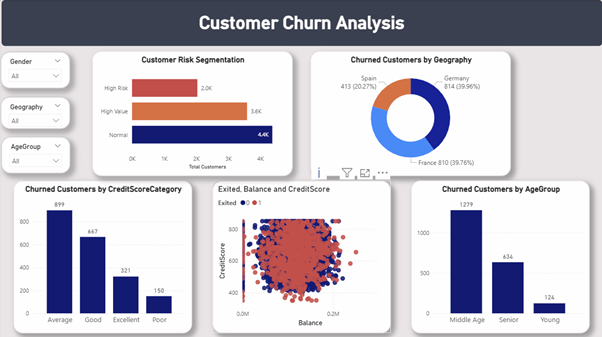

What the dashboard file says about the page in this screenshot:
{"tool":"powerbi","page":{"name":"Churn Analysis","canvas":[1280,720],"ordinal":1},"visuals":[{"type":"donutChart","fields":{"Category":["Churn_Modelling.Geography"],"Y":["Churn_Modelling.Churned Customers"]},"box":[658.7,109.8,426.8,266.2],"z":0},{"type":"clusteredColumnChart","fields":{"Category":["Churn_Modelling.AgeGroup"],"Y":["Churn_Modelling.Churned Customers"]},"box":[872.7,385.6,380.1,325.2],"z":1000},{"type":"clusteredColumnChart","fields":{"Category":["Churn_Modelling.CreditScoreCategory"],"Y":["Churn_Modelling.Churned Customers"]},"box":[27.4,385.6,380.1,325.2],"z":2000},{"type":"scatterChart","fields":{"Series":["Churn_Modelling.Exited"],"X":["Churn_Modelling.Balance"],"Y":["Churn_Modelling.CreditScore"]},"box":[450.1,385.6,380.1,325.2],"z":3000},{"type":"clusteredBarChart","title":"Customer Risk Segmentation","fields":{"Category":["Churn_Modelling.Risk Category"],"Y":["Churn_Modelling.Total Customers"]},"box":[194.9,109.8,426,266],"z":4000},{"type":"slicer","fields":{"Values":["Churn_Modelling.Geography"]},"box":[0,207.9,148.2,68.6],"z":5000},{"type":"slicer","fields":{"Values":["Churn_Modelling.Gender"]},"box":[0,111.8,148.2,78.2],"z":6000},{"type":"slicer","fields":{"Values":["Churn_Modelling.AgeGroup"]},"box":[1.4,292.9,146.8,78.2],"z":7000},{"type":"textbox","box":[1.4,0,1278.9,100.2],"z":8000}]}

Visuals, with their boxes in screenshot pixels (x1, y1, x2, y2), scaled from the page's 1280x720 canvas onto the 602x337 screenshot:
donutChart - Churn_Modelling.Geography x Churn_Modelling.Churned Customers: bbox(310, 51, 511, 176)
clusteredColumnChart - Churn_Modelling.AgeGroup x Churn_Modelling.Churned Customers: bbox(410, 180, 589, 333)
clusteredColumnChart - Churn_Modelling.CreditScoreCategory x Churn_Modelling.Churned Customers: bbox(13, 180, 192, 333)
scatterChart - Churn_Modelling.Exited x Churn_Modelling.Balance: bbox(212, 180, 390, 333)
"Customer Risk Segmentation" clusteredBarChart: bbox(92, 51, 292, 176)
slicer - Churn_Modelling.Geography: bbox(0, 97, 70, 129)
slicer - Churn_Modelling.Gender: bbox(0, 52, 70, 89)
slicer - Churn_Modelling.AgeGroup: bbox(1, 137, 70, 174)
textbox: bbox(1, 0, 601, 47)
